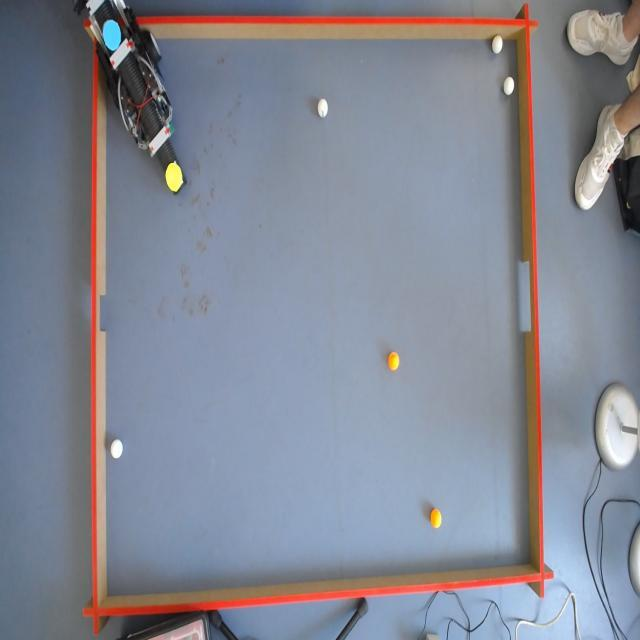orange: (431, 508, 443, 530), (387, 349, 399, 371)
robot: (89, 0, 169, 168)
robot-front: (165, 164, 182, 192)
robot-rear: (102, 19, 121, 50)
white: (490, 36, 504, 56), (314, 98, 328, 118), (110, 440, 124, 457), (505, 76, 516, 96)
